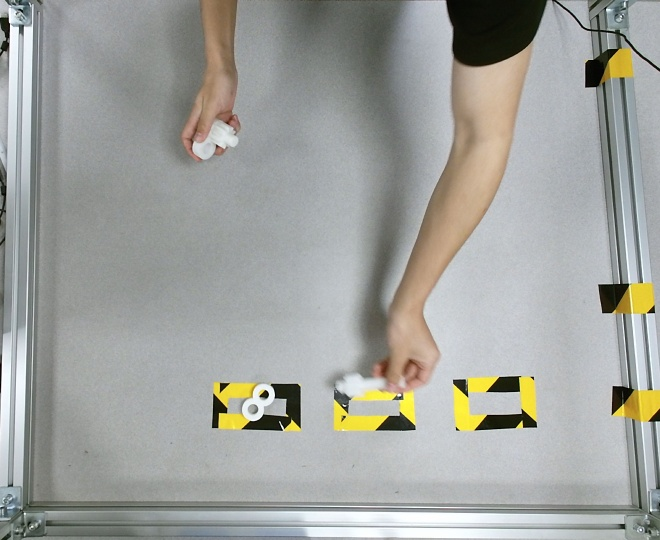stage_2: (192, 118, 239, 159)
